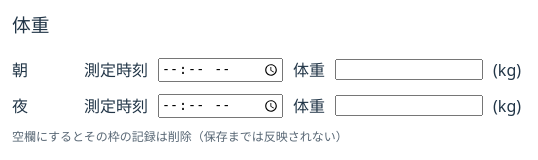
Test: WeightEditor › keeps raw draft during typing, normalizes full-width input on blur, and deletes on empty blur
Later steps or results of the test are not shown.
In the 1st field: (409, 70) [335,59,483,80], type " ６８．５０ "
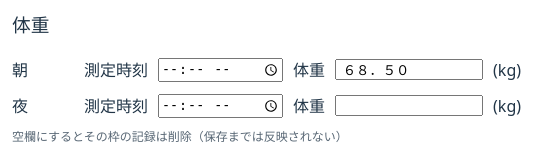
Leave the 1st field, box [335,59,483,80]
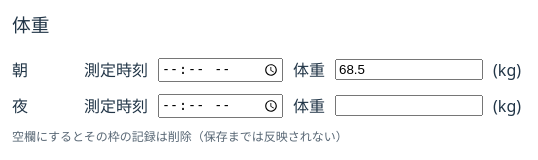
Expected: the 1st field holds "68.5", [335,59,483,80]
